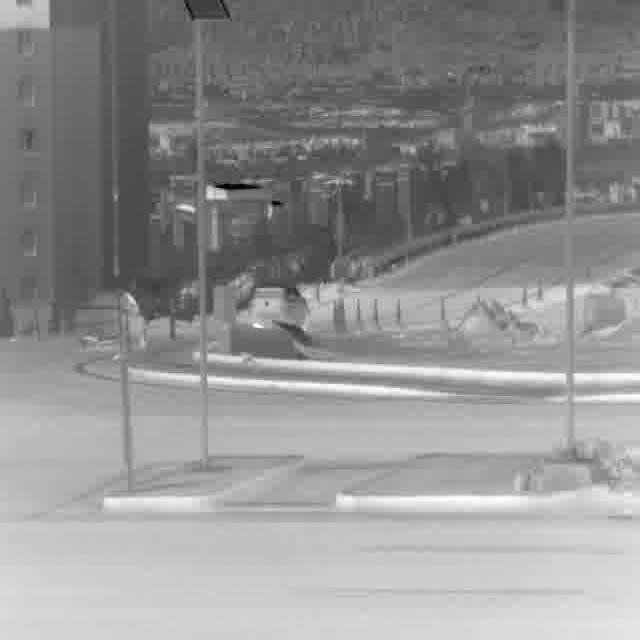Car: (76, 286, 146, 351), (249, 286, 311, 334)
